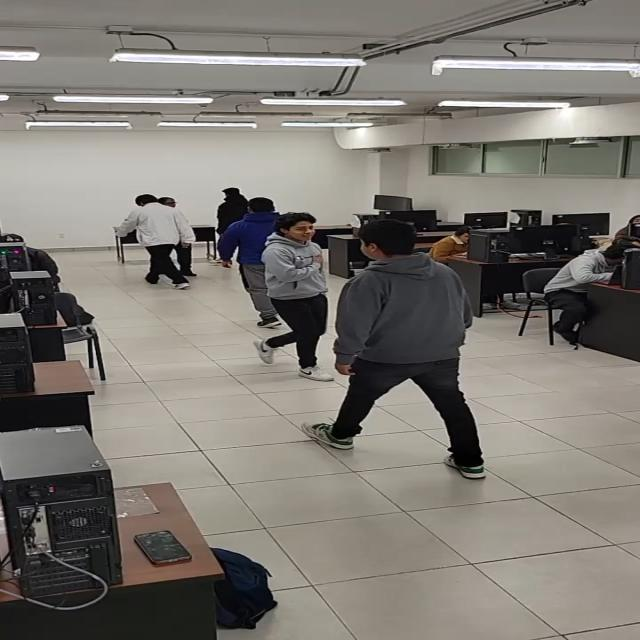Persona: (300, 221, 491, 482), (254, 211, 336, 383), (217, 198, 285, 329), (114, 194, 198, 291), (214, 185, 250, 266)
